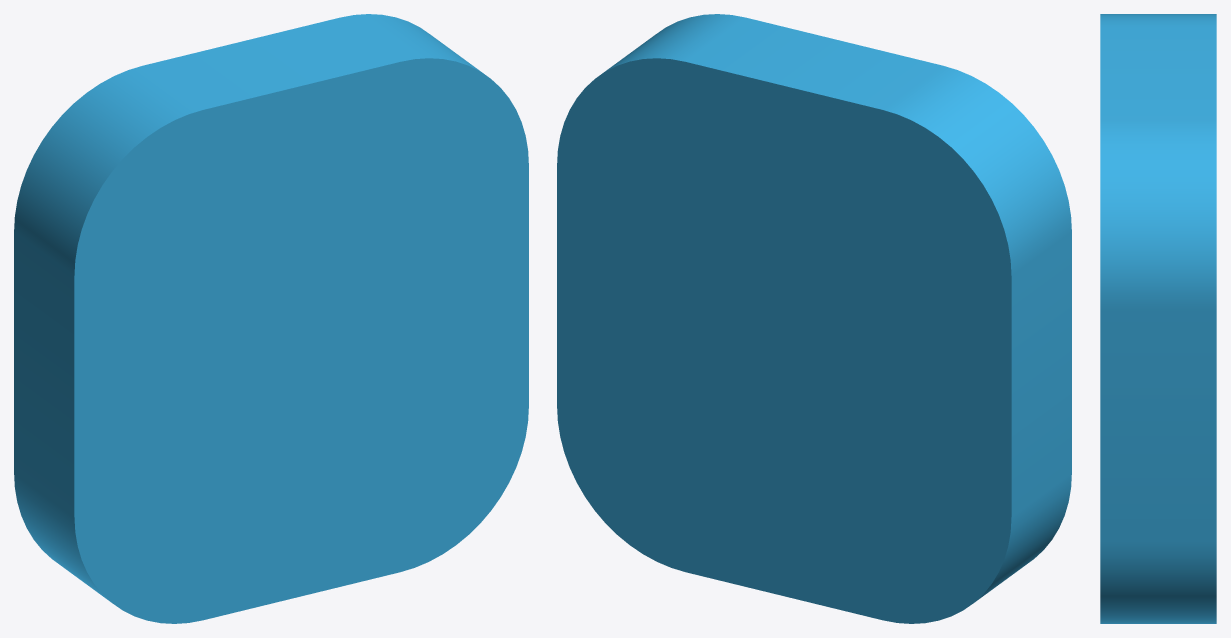
The picture shows the model from 3 angles, left to right: view 1: azimuth 30°, elevation 25°; view 2: azimuth 150°, elevation 25°; view 3: azimuth 270°, elevation 25°; orthographic projection. The views are drawn at different scales.
Visible parts, largest first — view 1: rounded_slab; view 2: rounded_slab; view 3: rounded_slab.
Part boxes in pixels (x1,y1,x2,y2): rounded_slab: (14, 14, 528, 623); rounded_slab: (557, 14, 1071, 623); rounded_slab: (1100, 14, 1216, 623).
Bounding box in the file's own units: 0.1025 × 0.11 × 0.0236.
